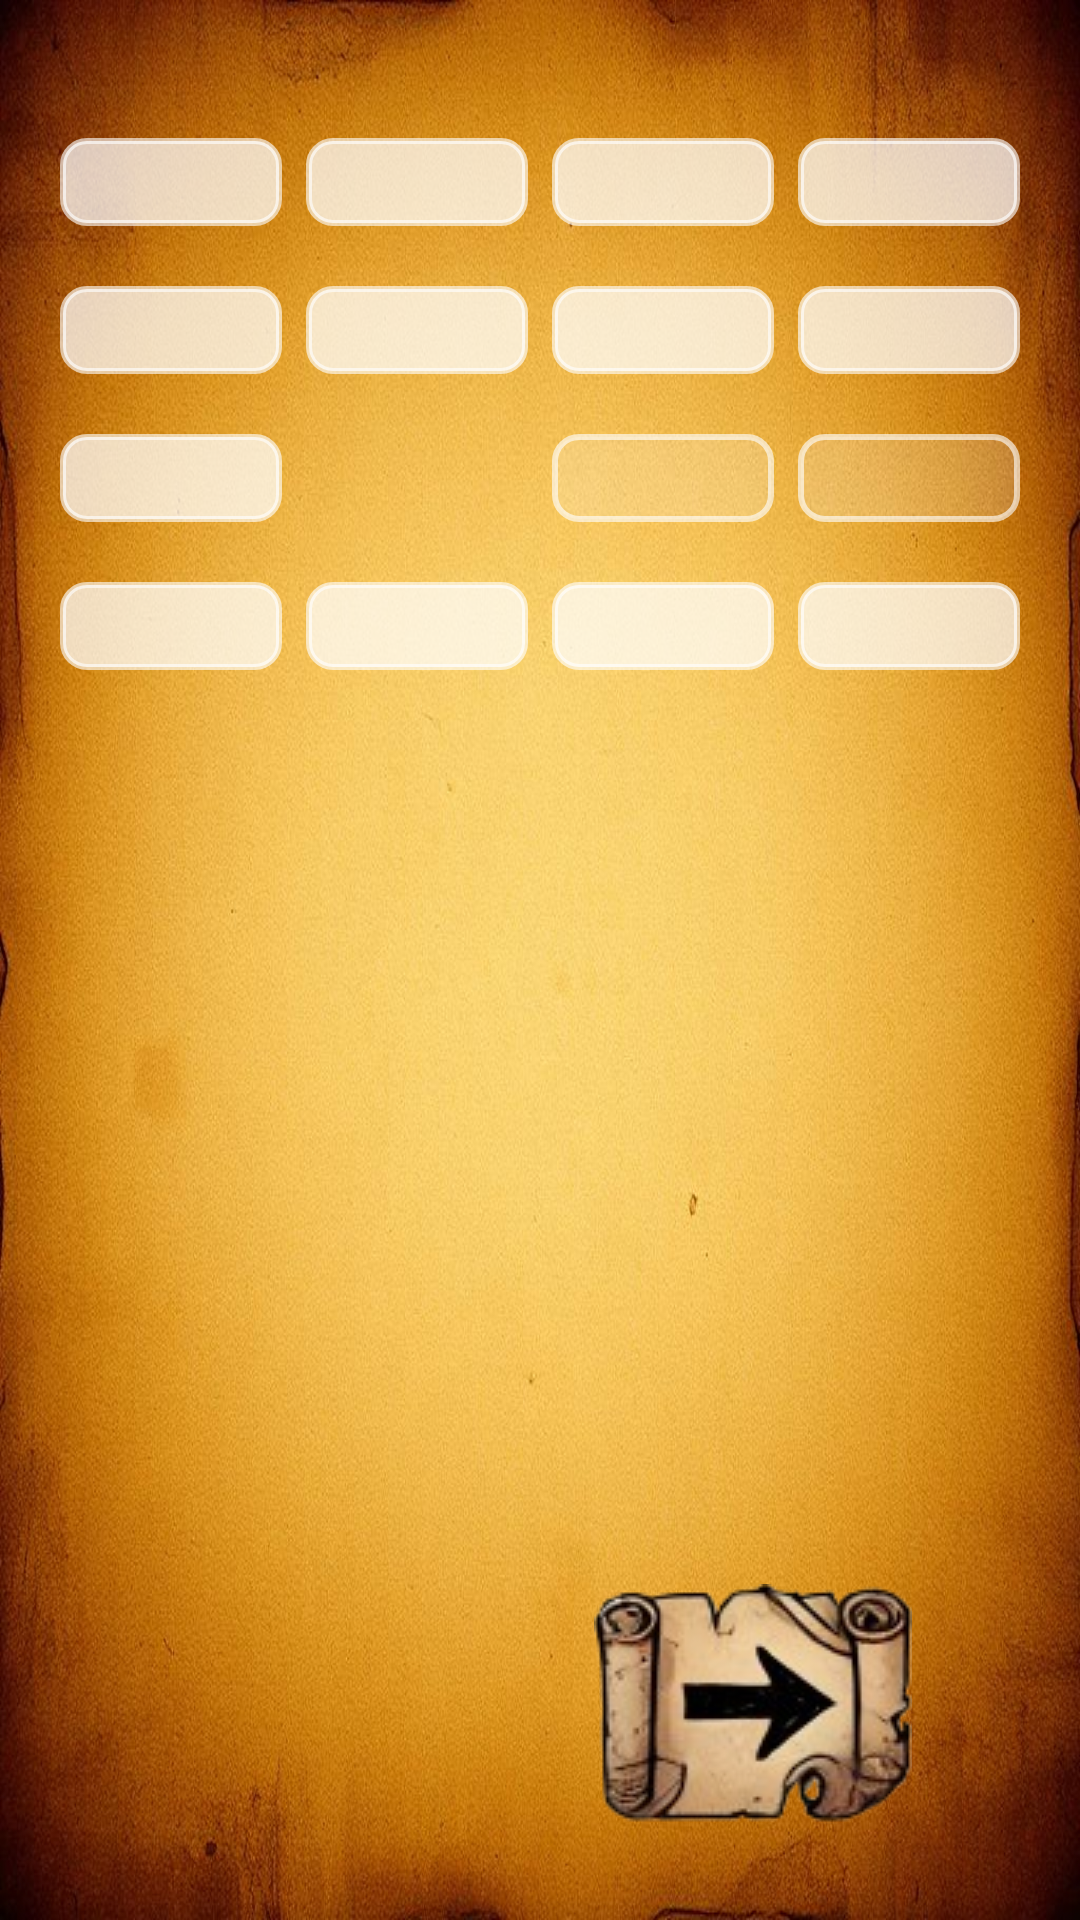

Icon click points for this 1080×1920 phone screenshot, format [x,y]:
next: [753,1704]
